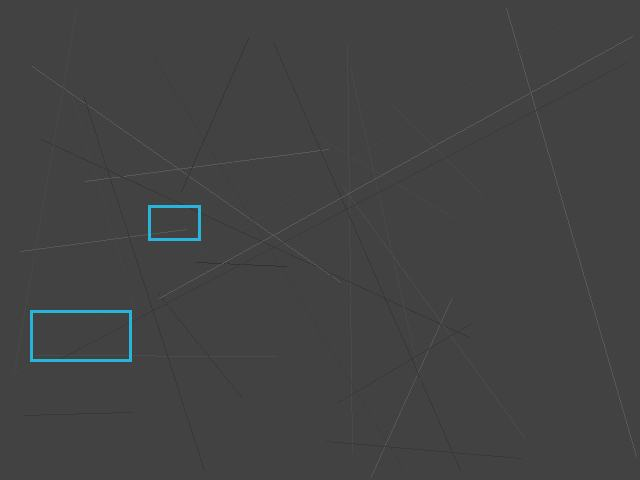D10: (30, 310, 131, 361), (148, 205, 200, 240)
